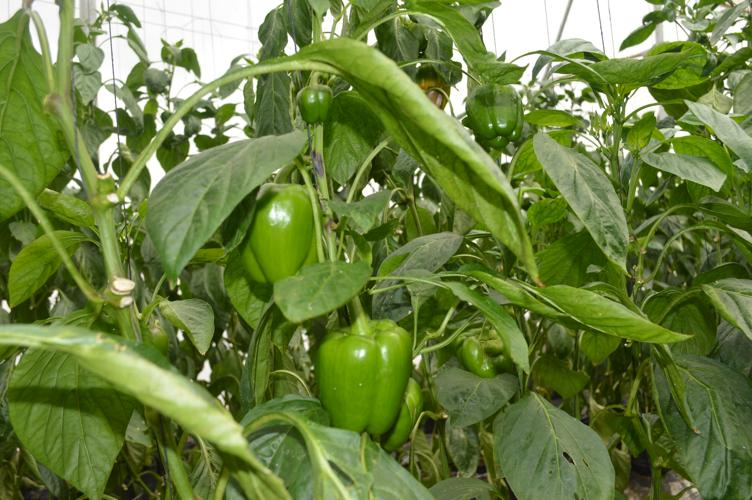BellPepper: (311, 326, 409, 439), (235, 182, 319, 285), (470, 83, 526, 146), (383, 382, 423, 445), (462, 335, 509, 376), (296, 91, 340, 126)
